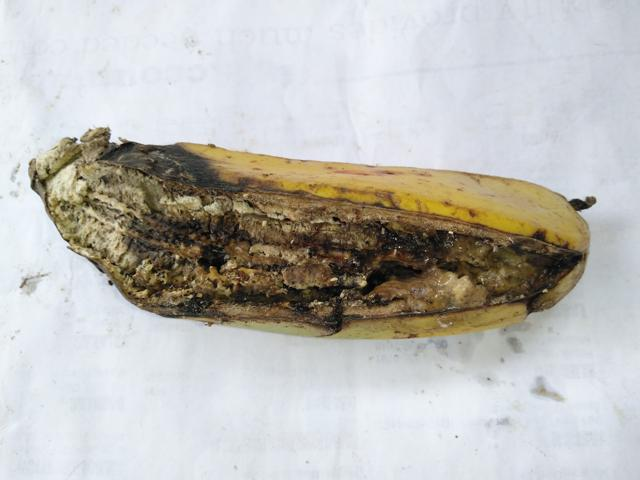rotten: (35, 108, 597, 347)
